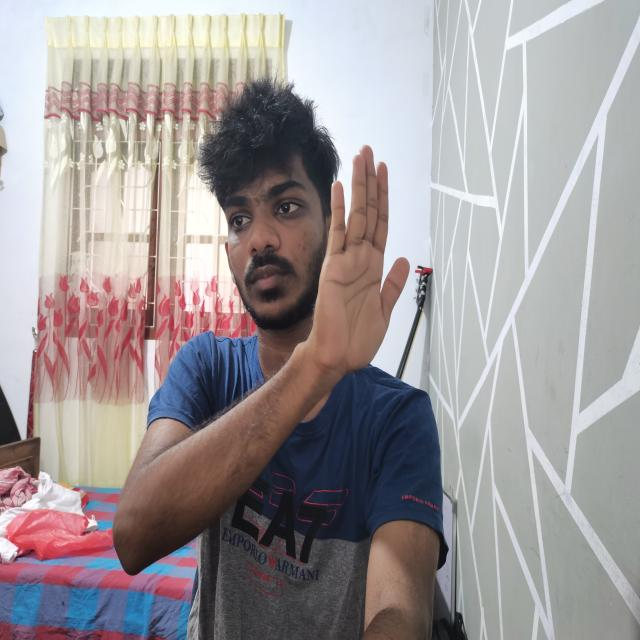Hello: (307, 130, 422, 393)
